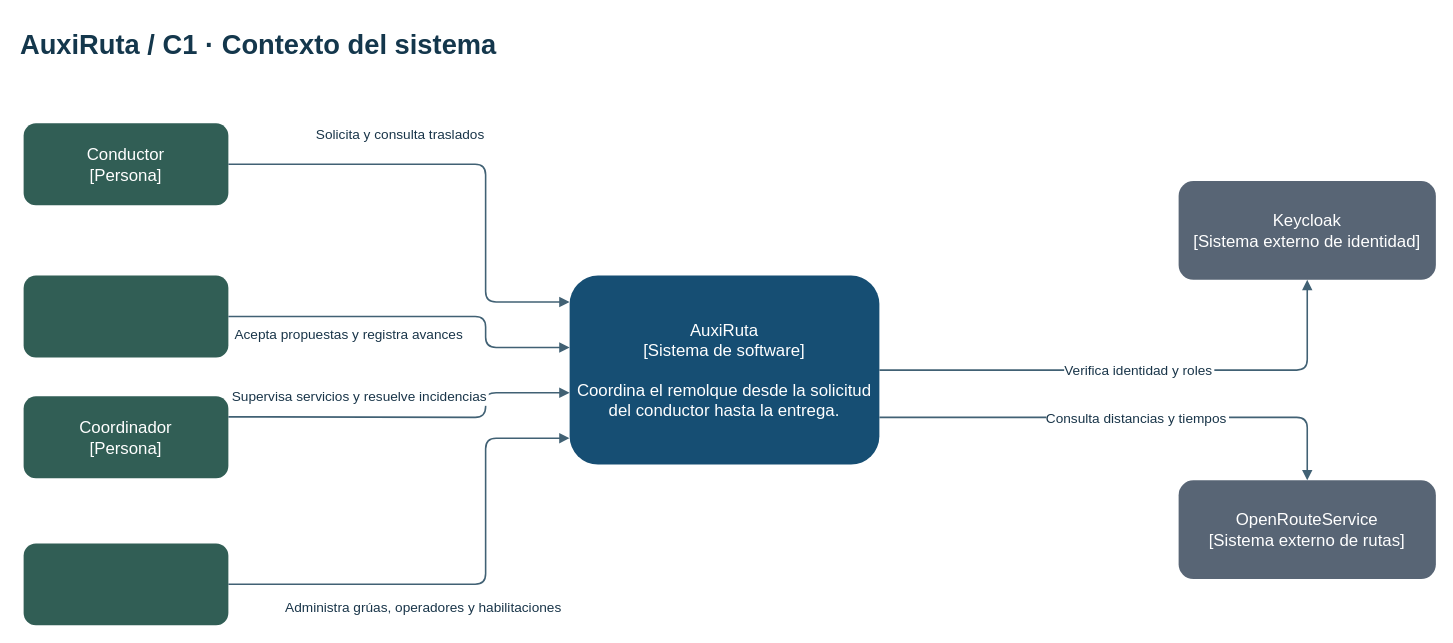
Some shapes in this 1453 by 643 pixel diagram are drawn without their labels. Each missing label, with the centre of its shape:
Administrador [Persona]: (125,584)
Operador de grúa [Persona]: (125,316)
